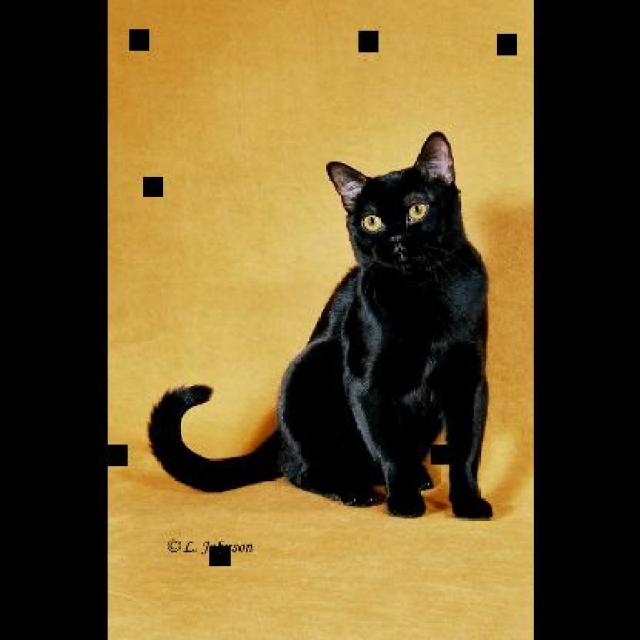unauthorized: (146, 130, 494, 518)
